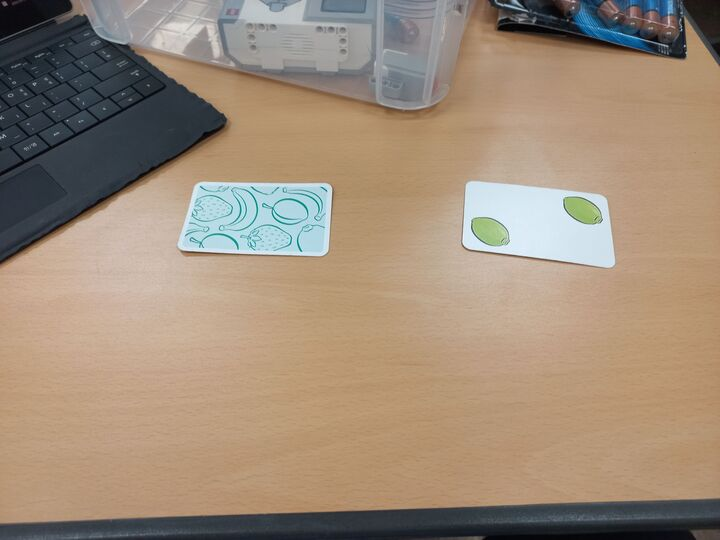lime2: (462, 179, 618, 272)
